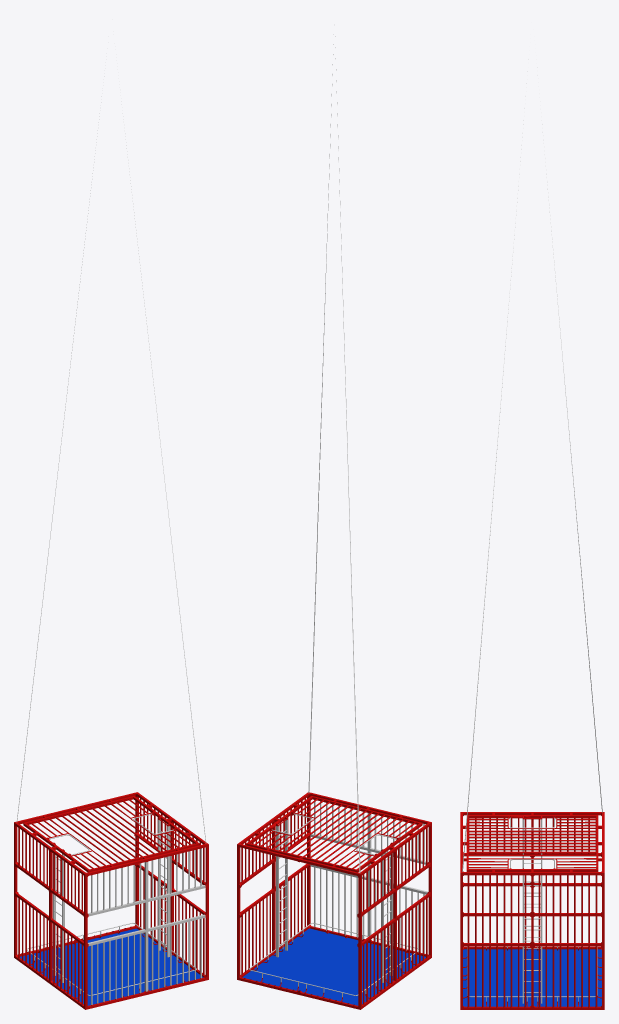
File: cage2.fbx
The picture shows the model from 3 angles, left to right: view 1: azimuth 30°, elevation 25°; view 2: azimuth 150°, elevation 25°; view 3: azimuth 270°, elevation 25°; orthographic projection.
Visible parts, largest first — view 1: polySurface126, polySurface75, polySurface127; view 2: polySurface126, polySurface127, polySurface75, polySurface14; view 3: polySurface126, polySurface127.
Boxes of the visible parts, x1,y1,x2,y2 form: polySurface126: (14,792,208,1009); polySurface75: (88,862,205,991); polySurface127: (16,76,206,843); polySurface126: (237,792,431,1009); polySurface127: (308,34,360,872); polySurface75: (310,813,428,936); polySurface14: (249,922,418,995); polySurface126: (460,812,604,1009); polySurface127: (462,59,602,871).
Size of the model in its own units: 204 by 1503 by 204.
